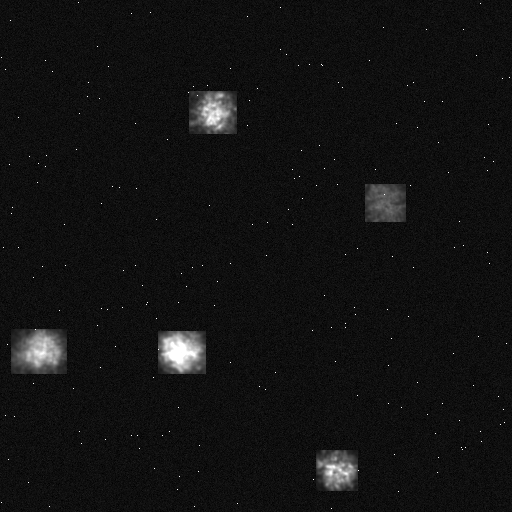lam1: (11, 329, 66, 373), (189, 91, 236, 133), (158, 331, 205, 373), (316, 450, 357, 490)
lam3: (365, 184, 405, 221)
